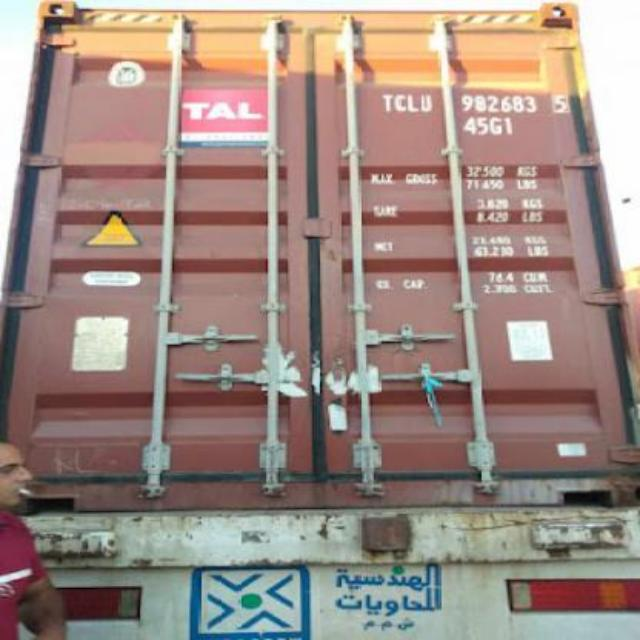2: (486, 92, 499, 112)
3: (524, 94, 540, 115)
5: (552, 94, 572, 115)
6: (502, 94, 512, 112)
8: (472, 90, 490, 112), (512, 94, 526, 114)
9: (458, 93, 476, 111)
C: (396, 90, 409, 114)
L: (408, 96, 422, 114)
T: (384, 89, 394, 115)
U: (422, 93, 436, 113)
